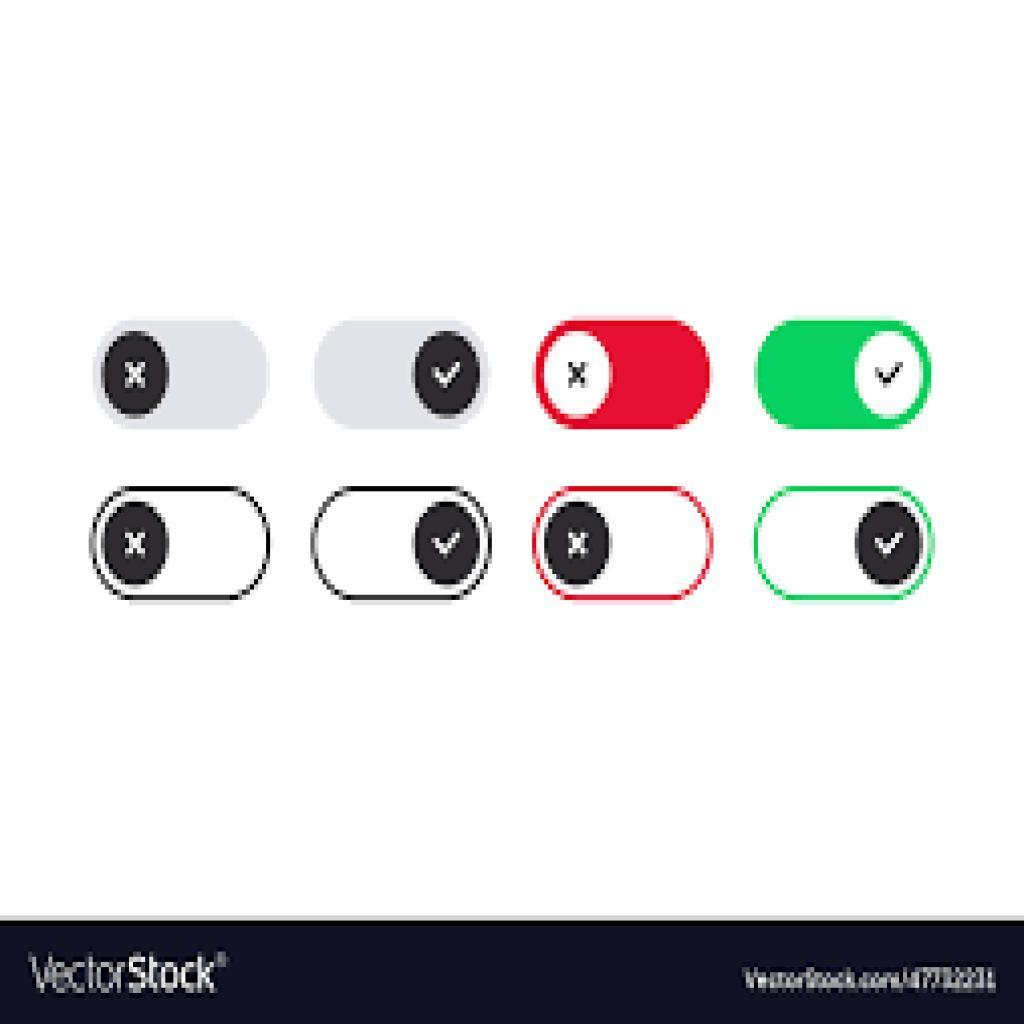switch: (530, 481, 716, 605), (87, 486, 273, 601), (309, 486, 496, 599), (534, 319, 714, 436), (754, 487, 938, 601), (754, 320, 932, 430), (93, 322, 272, 430), (317, 322, 484, 436)
